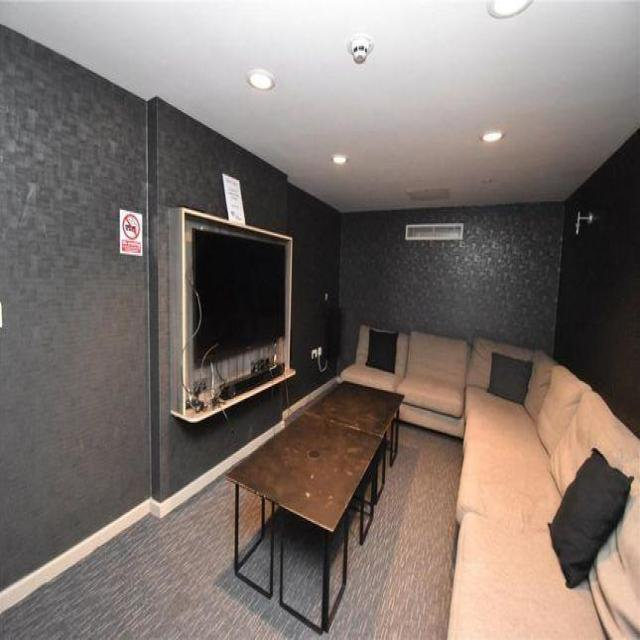Wall: (0, 26, 341, 584), (0, 0, 640, 212), (0, 26, 151, 590), (0, 478, 317, 639), (0, 478, 316, 639), (340, 203, 564, 365), (323, 426, 462, 638), (329, 426, 462, 638), (555, 129, 640, 436), (265, 0, 440, 37), (284, 517, 321, 622), (285, 519, 321, 620), (244, 532, 268, 584), (240, 491, 260, 548), (331, 532, 341, 599)
